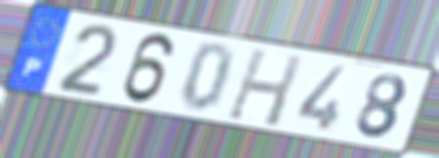0: (178, 42, 238, 115)
2: (54, 22, 120, 98)
4: (294, 63, 350, 132)
6: (120, 31, 176, 106)
8: (355, 73, 410, 140)
H: (223, 45, 307, 129)
